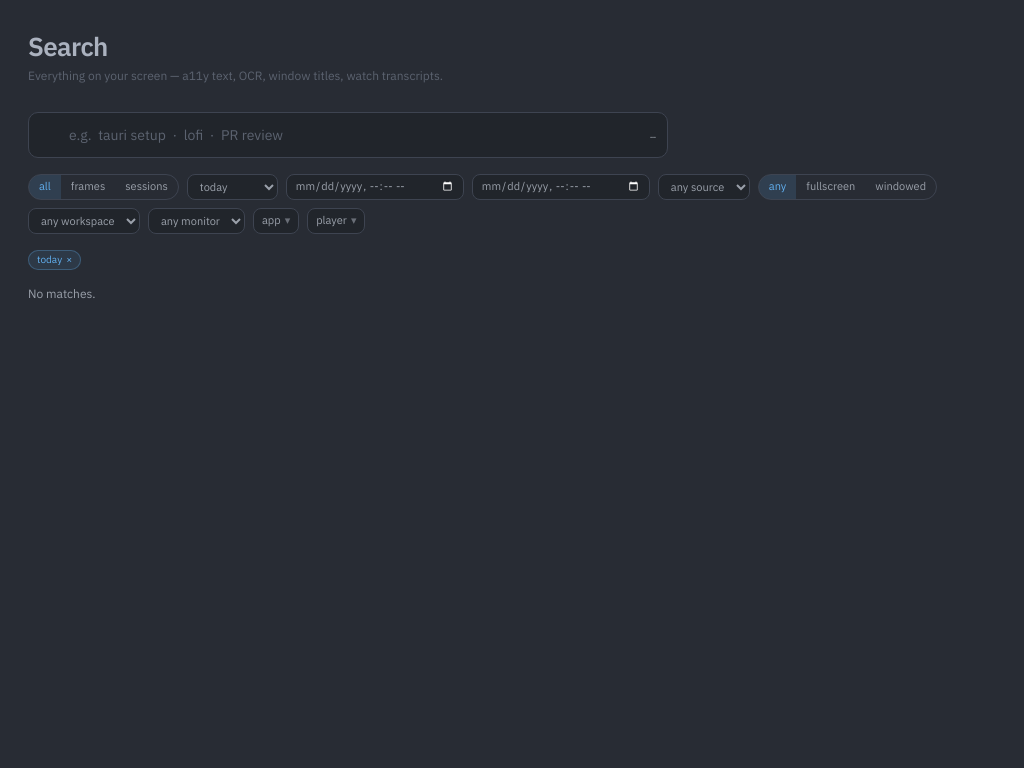
Test case: SearchSurface › returns session results and highlights the match
In the field named "search query": [348, 135] box [28, 112, 668, 158], type "roger"
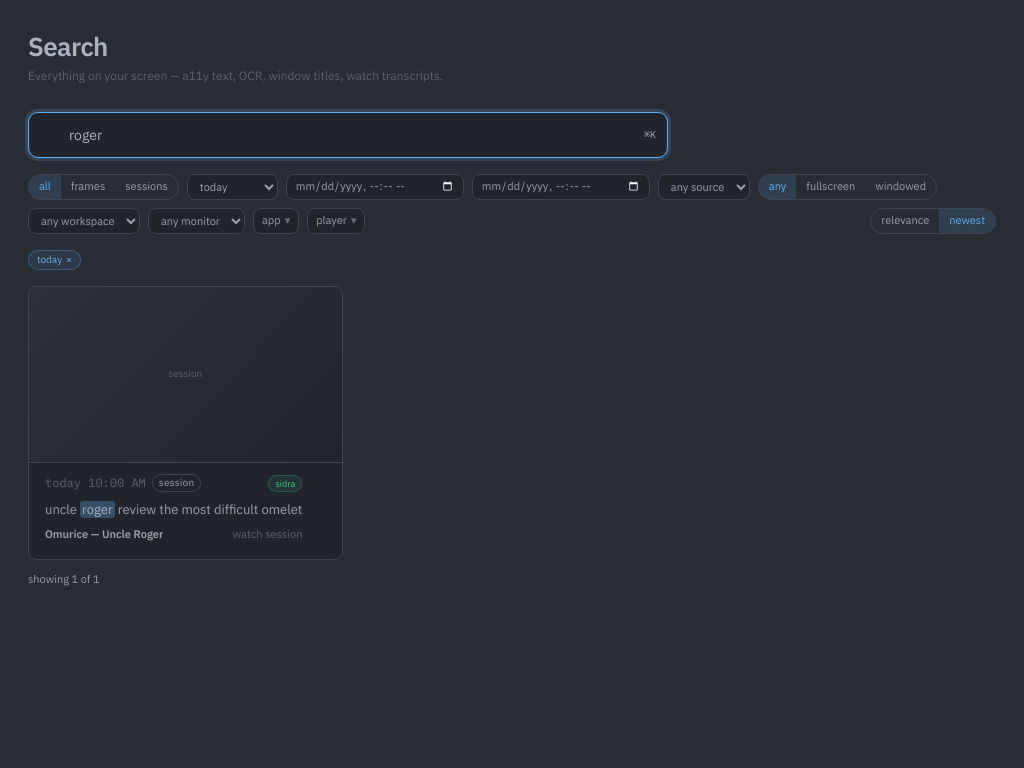
Check: the text "watch session" is shown, box [233, 527, 302, 543]
Check: the text "Omurice — Uncle Roger" is shown, box [45, 527, 163, 543]
Check: the 2nd text "roger" is shown, box [80, 501, 115, 518]
